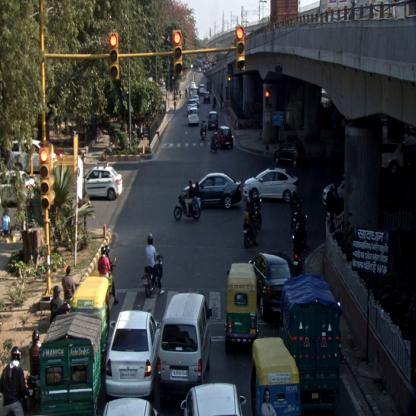car: (104, 310, 161, 398), (160, 293, 212, 386), (249, 252, 295, 323), (181, 172, 242, 209), (243, 166, 297, 206), (180, 384, 246, 415), (82, 166, 123, 203), (275, 143, 306, 170), (215, 124, 233, 150), (208, 111, 219, 130), (187, 110, 199, 126), (204, 92, 210, 106)
motorcycle: (142, 234, 164, 298), (99, 246, 120, 304), (26, 330, 40, 408), (173, 181, 201, 220), (210, 130, 218, 154), (200, 120, 208, 141)
truck: (282, 274, 338, 402), (42, 314, 102, 414)
